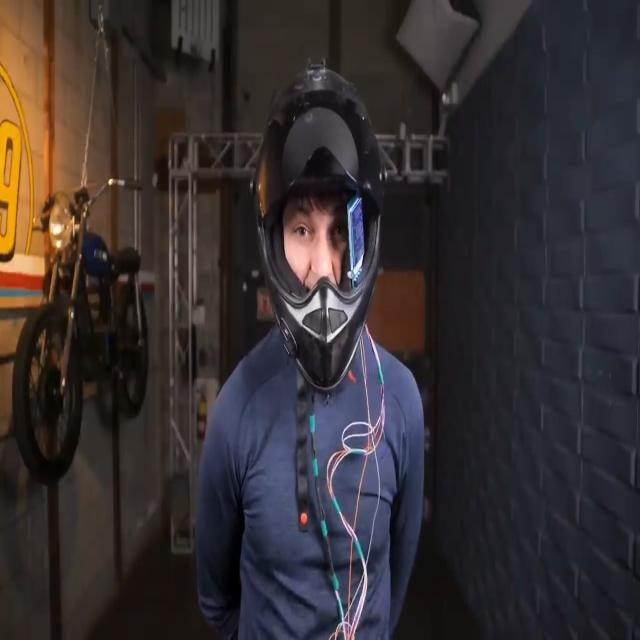Helmet_Wearer: (253, 58, 388, 368)
Person: (188, 61, 424, 640)
